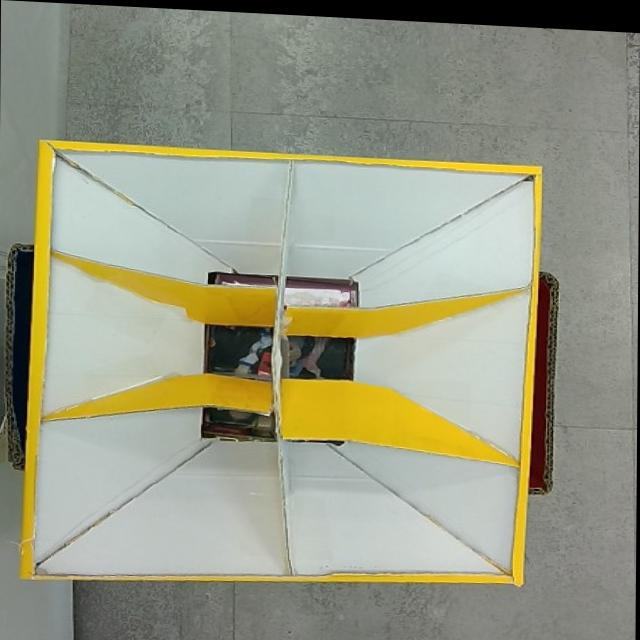box: (6, 135, 560, 602)
